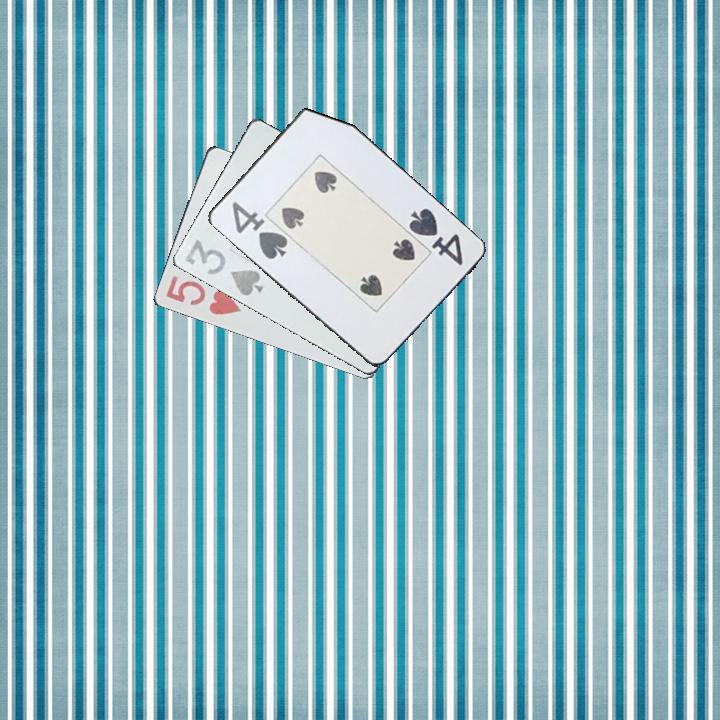3s: (180, 236, 266, 299)
4s: (228, 197, 291, 262), (405, 204, 466, 269)
5h: (162, 272, 244, 318)
